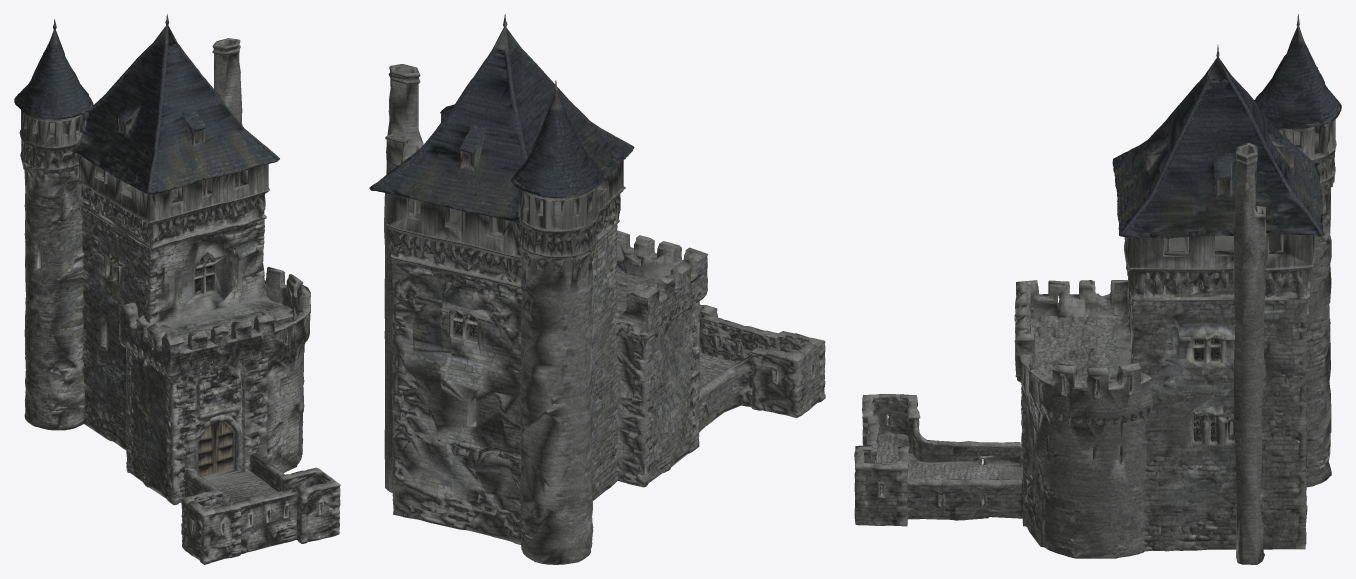
The model's file is keep_medieval.glb.
The picture shows the model from 3 angles, left to right: view 1: azimuth 30°, elevation 25°; view 2: azimuth 150°, elevation 25°; view 3: azimuth 270°, elevation 25°; orthographic projection. The views are drawn at different scales.
Parts seen in each view (by area): view 1: keep_medieval; view 2: keep_medieval; view 3: keep_medieval.
Boxes of the visible parts, box(x1,y1,x2,y2) form: keep_medieval: box(14, 14, 340, 564); keep_medieval: box(369, 14, 825, 564); keep_medieval: box(854, 14, 1341, 564).
Bounding box in the file's own units: 0.9985 × 1.91 × 1.78.
Materials: 1 (1 with a texture image).
